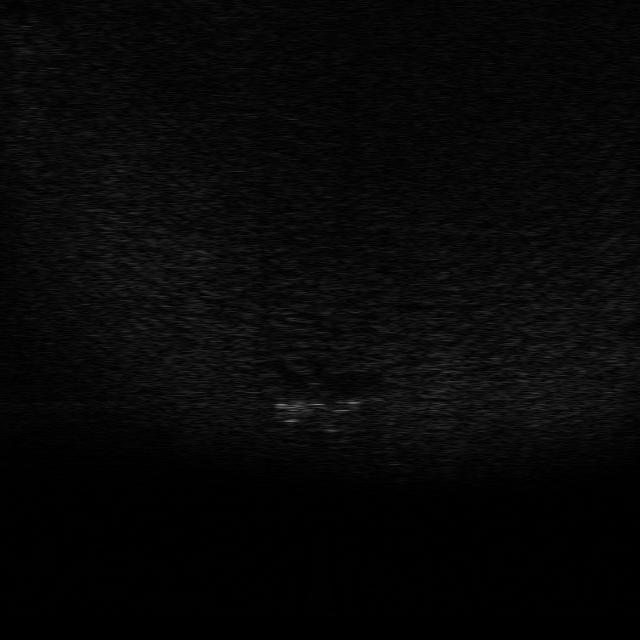plane: (268, 377, 372, 436)
